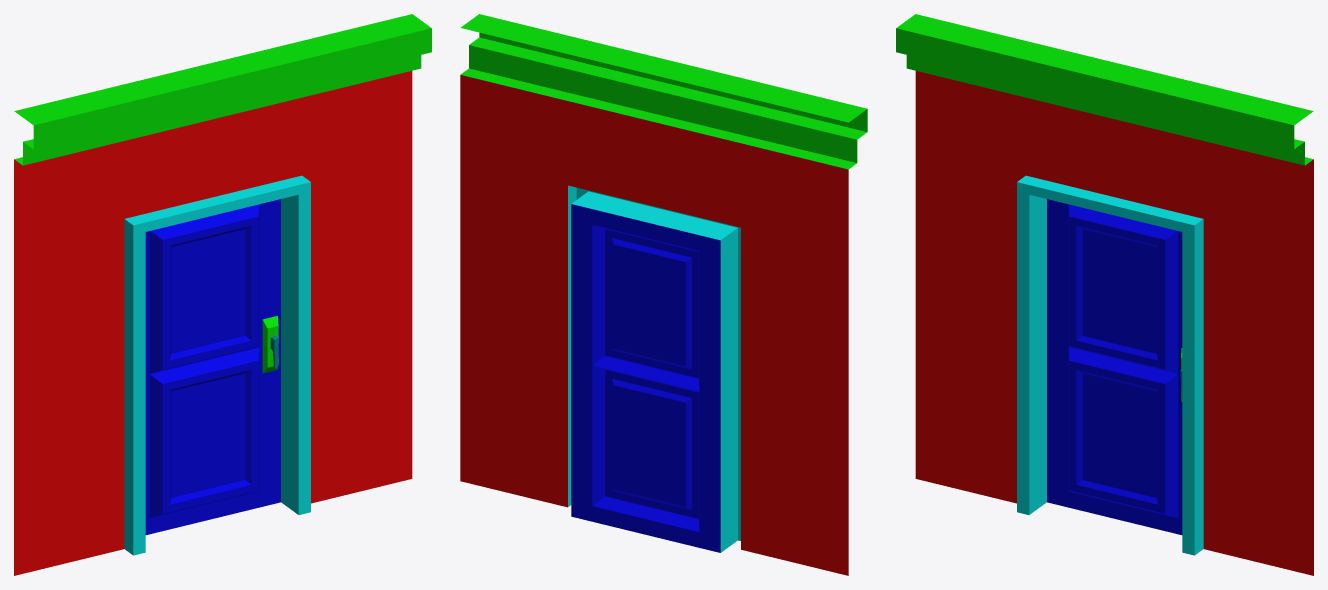
Rendered from Wall_Door.fbx.
The picture shows the model from 3 angles, left to right: view 1: azimuth 30°, elevation 25°; view 2: azimuth 150°, elevation 25°; view 3: azimuth 330°, elevation 25°; orthographic projection. The views are drawn at different scales.
Parts seen in each view (by area): view 1: Build_1_Door_Wall; view 2: Build_1_Door_Wall; view 3: Build_1_Door_Wall.
Boxes of the visible parts, x1,y1,x2,y2 form: Build_1_Door_Wall: (14,14,431,575); Build_1_Door_Wall: (460,14,867,575); Build_1_Door_Wall: (896,14,1313,575).
Bounding box in the file's own units: 260 × 31.9 × 290.
